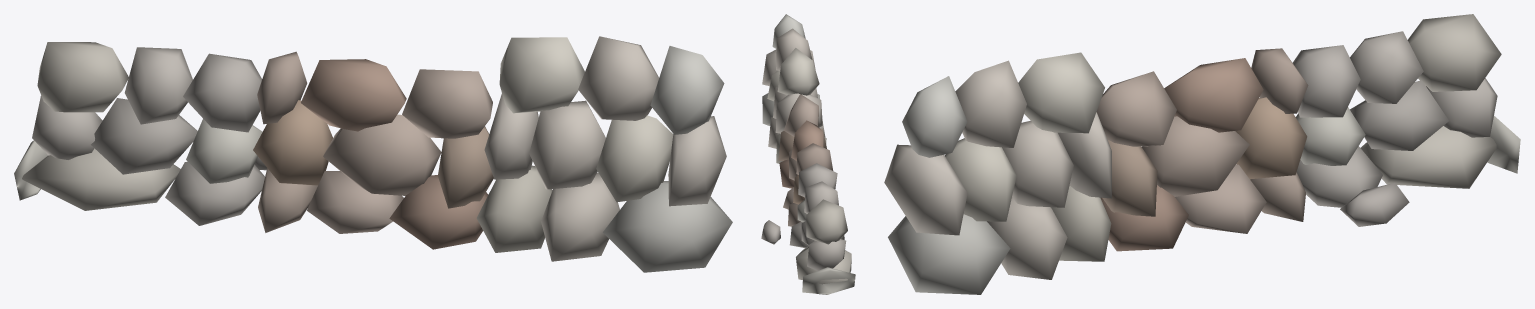
The model's file is farm_-16_-24_near.glb.
3 renders of one model, left to right at view 1: azimuth 30°, elevation 25°; view 2: azimuth 150°, elevation 25°; view 3: azimuth 270°, elevation 25°, orthographic. The views are drawn at different scales.
Visible parts, largest first — view 1: geometry_0; view 2: geometry_0; view 3: geometry_0.
Boxes of the visible parts, x1=… form: geometry_0: x1=14, y1=36, x2=732, y2=272; geometry_0: x1=761, y1=14, x2=855, y2=294; geometry_0: x1=884, y1=14, x2=1520, y2=294.
Size of the model in its own units: 3.1 by 1.76 by 3.97.
